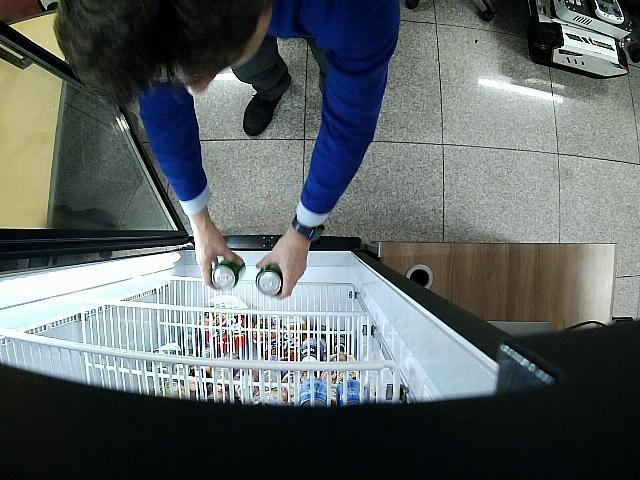12_chilsungCider: (212, 257, 245, 290), (255, 264, 282, 296)
